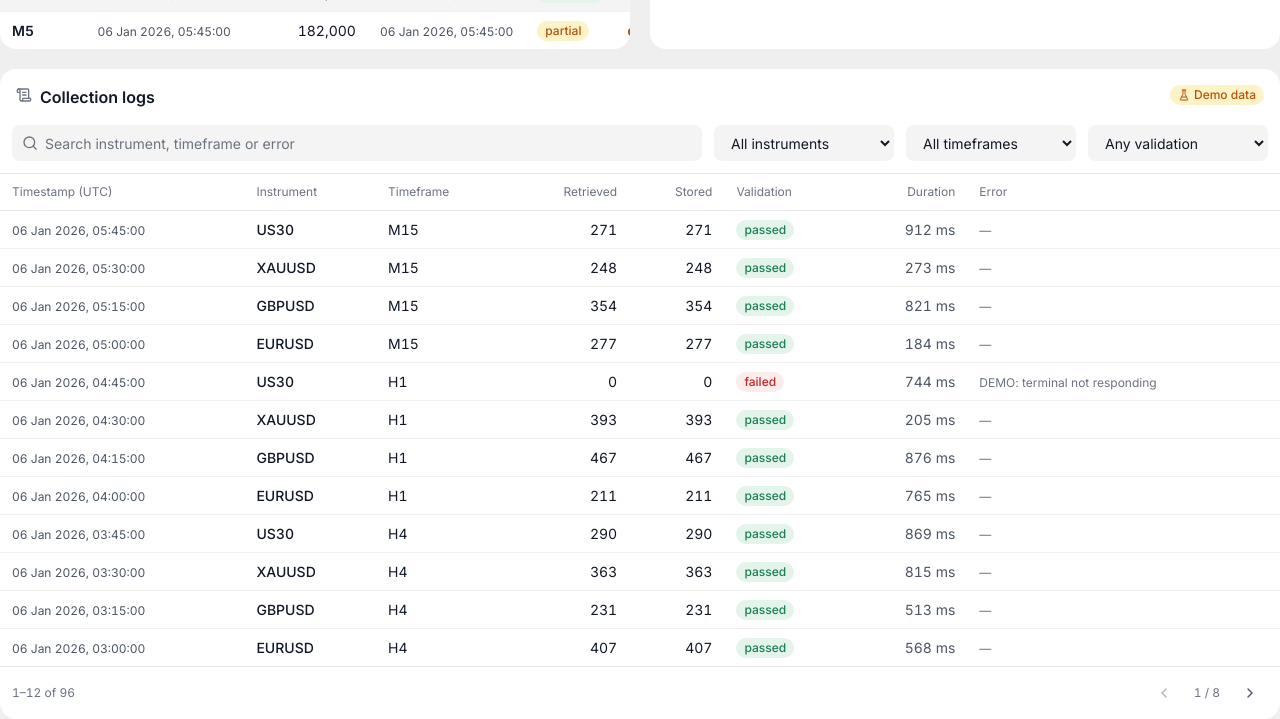
Data Centre controls › paginates and filters demo collection logs
(page scrolled)
Expected: the text "1–12 of 96" is shown, [12,685,75,701]
Click the button named "next page": (1250, 693) [1232,675,1268,711]
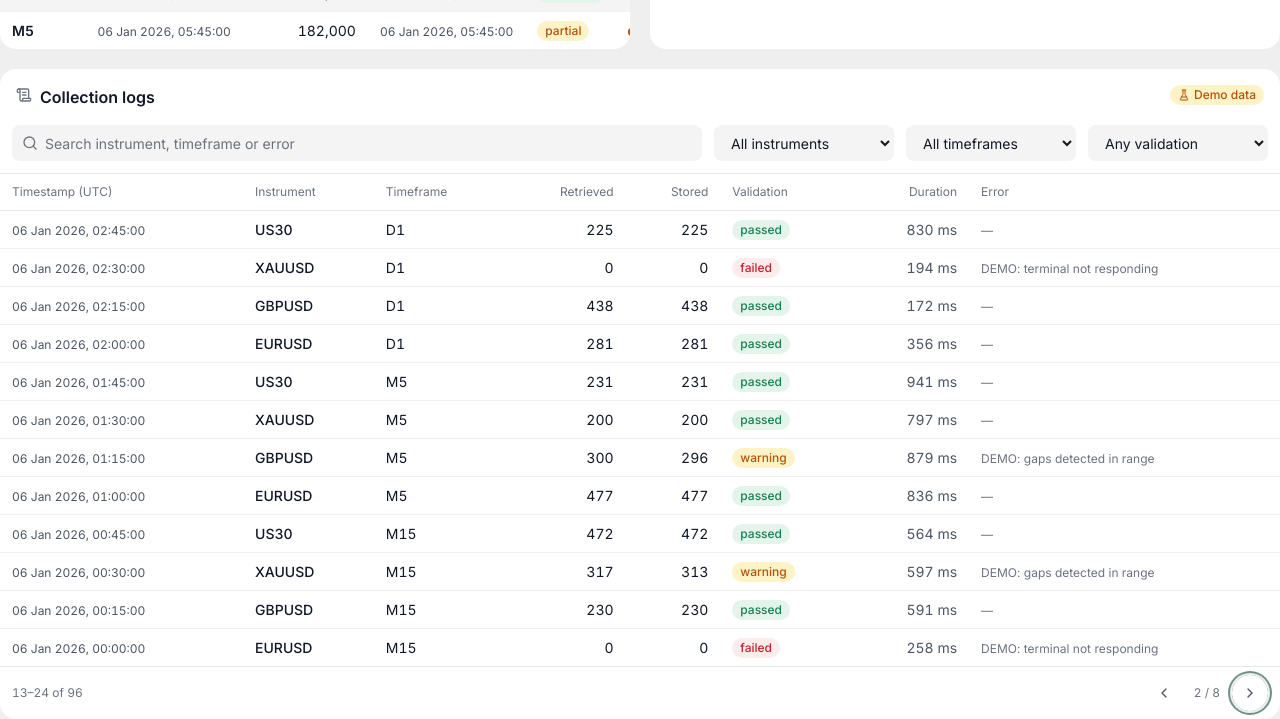
Result: the text "13–24 of 96" is shown at [12,685,83,701]
Select "Failed" in the 3rd dropdown named "Validation filter": (1178, 143) [1088,125,1268,161]
(page scrolled)
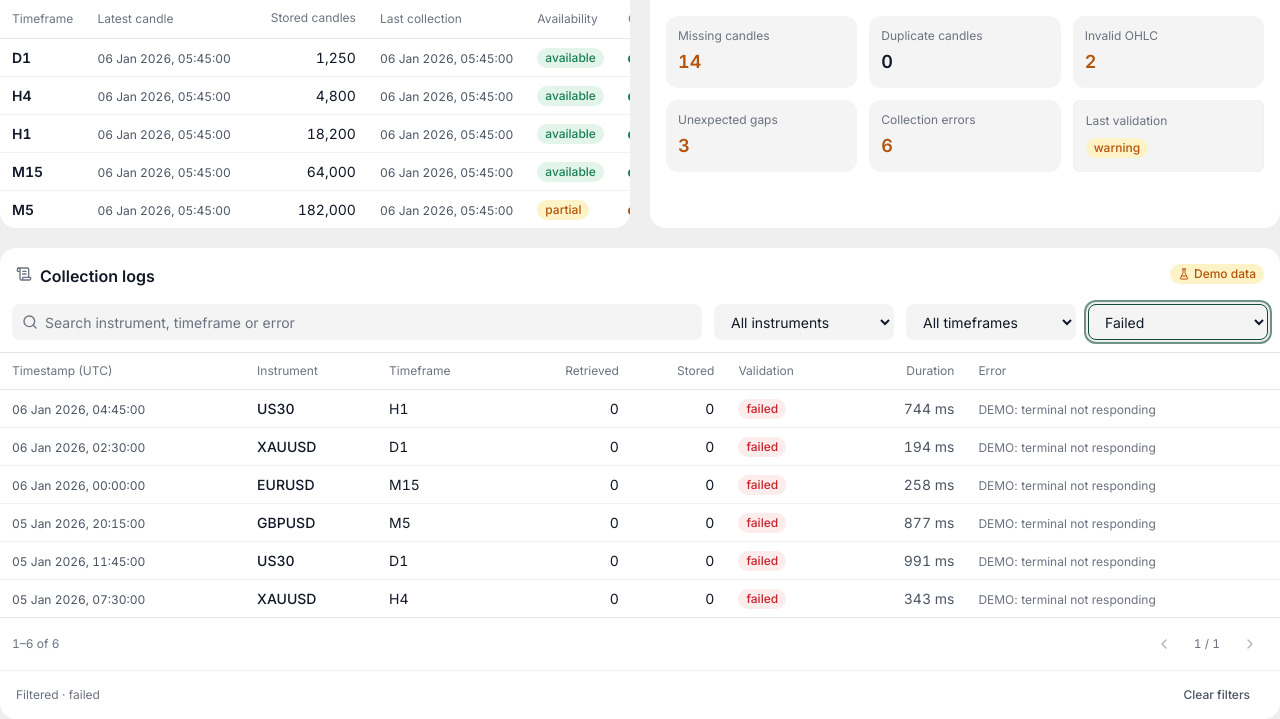
Result: the text "of 96" is gone
